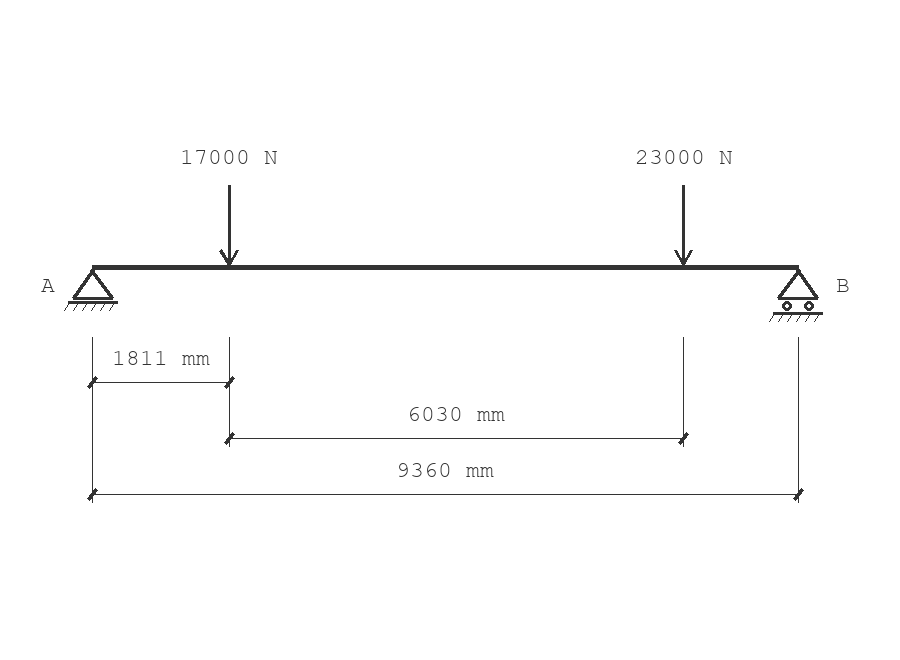pin_support: (64, 269, 118, 311)
point_load: (219, 185, 239, 266), (674, 185, 693, 265)
roller_support: (769, 269, 823, 322)
